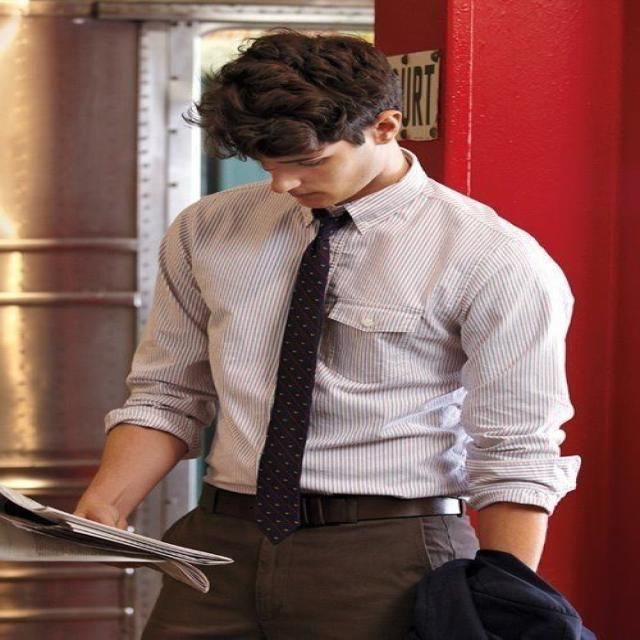9_cabeza_baja: (194, 34, 407, 207)
